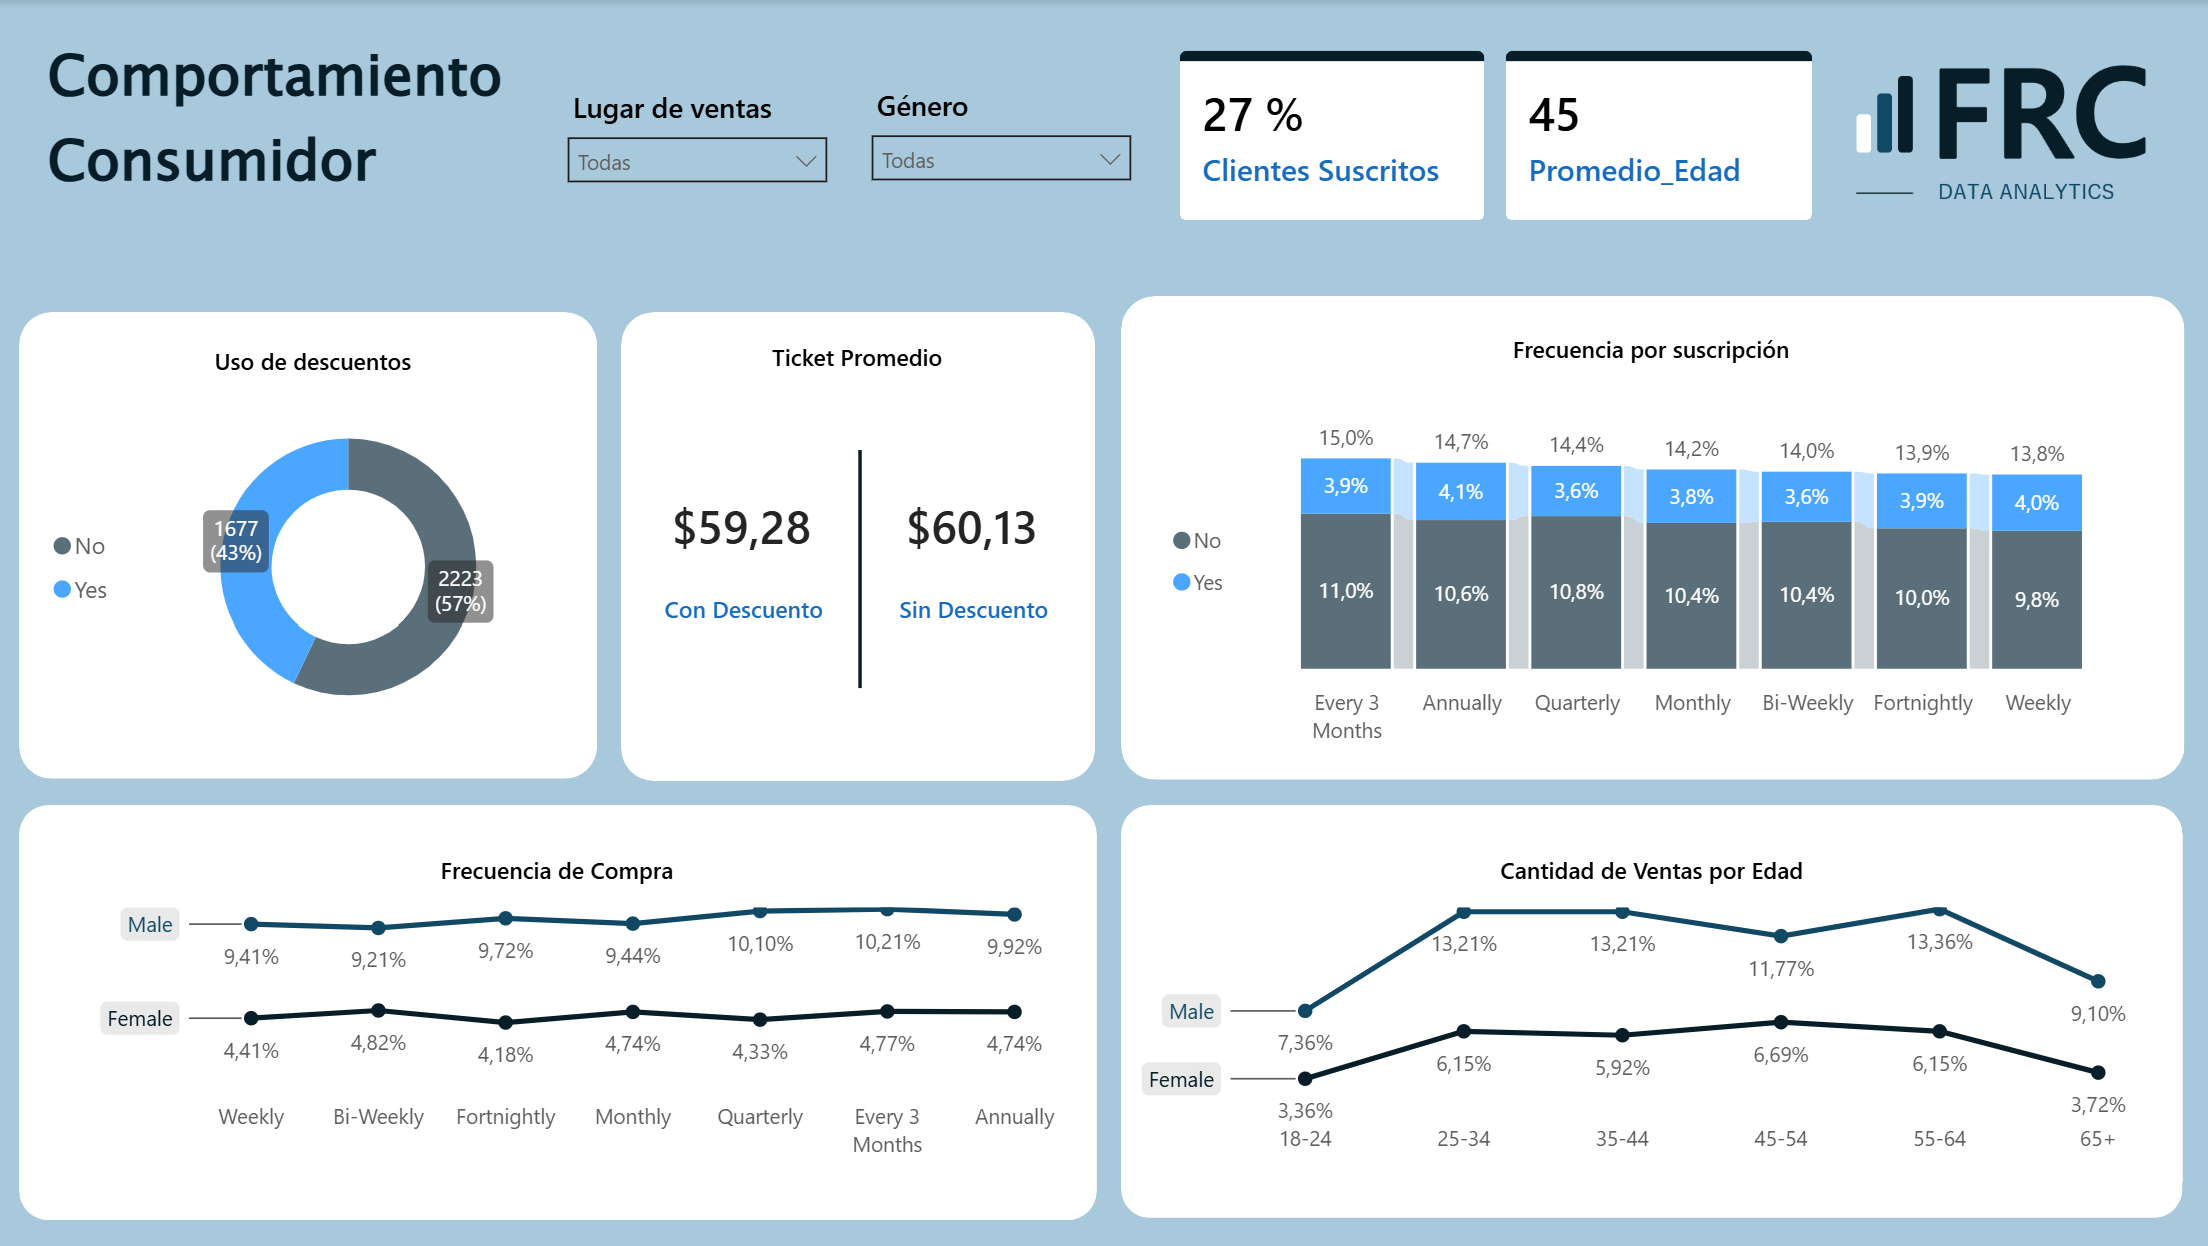

Layout of this report page (visuals, bound fields, positions):
{"tool":"powerbi","page":{"name":"Consumidor","canvas":[1280,720],"ordinal":1},"visuals":[{"type":"shape","box":[360.6,180.3,274,270.4],"z":0},{"type":"shape","box":[13.2,180.3,334.1,269.2],"z":1000},{"type":"shape","box":[650,171.2,614.6,278.9],"z":2000},{"type":"shape","box":[650,464.5,613.4,238.7],"z":3000},{"type":"shape","box":[13,464.5,622.9,239.9],"z":4000},{"type":"textbox","box":[24.2,14.9,280.5,117],"z":5000},{"type":"image","box":[1062.5,0,192.3,149],"z":6000},{"type":"cardVisual","fields":{"Data":["Dax Medidas.Promedio_Edad"]},"box":[859.9,16.8,201.9,122.6],"z":7000},{"type":"lineChart","title":"Frecuencia de Compra","fields":{"Category":["dim_frequency.frequency_name"],"Y":["CountNonNull(fact_transactions.frequency_id)"],"Series":["dim_gender.gender_name"]},"box":[13,481,621.7,202.1],"z":8000},{"type":"lineChart","title":"Cantidad de Ventas por Edad","fields":{"Category":["dim_customer.Rango Edad"],"Y":["CountNonNull(fact_transactions.frequency_id)"],"Series":["dim_gender.gender_name"]},"box":[650,481,613.4,202.1],"z":9000},{"type":"columnChart","title":"Frecuencia por suscripción","fields":{"Y":["CountNonNull(fact_transactions.subscription_status_id)"],"Series":["dim_subscription_status.subscription_status_name"],"Category":["dim_frequency.frequency_name"]},"box":[666.6,180.6,578,263.6],"z":10000},{"type":"cardVisual","fields":{"Data":["Dax Medidas.Porcentaje_sobre_total_ventas"]},"box":[671,16.8,200.7,122.6],"z":11000},{"type":"donutChart","title":"Uso de descuentos","fields":{"Y":["CountNonNull(fact_transactions.discount_status_id)"],"Category":["dim_discount_status.discount_status_name"]},"box":[19.2,187.5,325.7,257.2],"z":12000},{"type":"cardVisual","fields":{"Data":["Dax Medidas.Ticket promedio"]},"box":[365.4,260.8,137,79.3],"z":13000},{"type":"cardVisual","fields":{"Data":["Dax Medidas.Ticket promedio"]},"box":[500,260.8,134.6,79.3],"z":14000},{"type":"textbox","box":[403.8,192,187.5,33.7],"z":15000},{"type":"textbox","box":[494,338,141.8,33.7],"z":16000},{"type":"textbox","box":[360.6,337.7,141.8,33.7],"z":17000},{"type":"slicer","title":"Locación","fields":{"Values":["dim_gender.gender_name"]},"box":[500,49.5,159.8,78.1],"z":18000},{"type":"slicer","title":"Locación","fields":{"Values":["dim_location.location_name"]},"box":[324.5,50.7,159.8,78.1],"z":19000},{"type":"shape","box":[467.5,259.6,61.3,137],"z":20000}]}

Visuals, with their boxes in screenshot pixels (x1, y1, x2, y2), scaled from the page's 1280x720 canvas onto the 2208x1246 screenshot:
shape: x1=622 y1=312 x2=1095 y2=780
shape: x1=23 y1=312 x2=599 y2=778
shape: x1=1121 y1=296 x2=2181 y2=779
shape: x1=1121 y1=804 x2=2179 y2=1217
shape: x1=22 y1=804 x2=1097 y2=1219
textbox: x1=42 y1=26 x2=526 y2=228
image: x1=1833 y1=0 x2=2165 y2=258
cardVisual - Dax Medidas.Promedio_Edad: x1=1483 y1=29 x2=1832 y2=241
"Frecuencia de Compra" lineChart: x1=22 y1=832 x2=1095 y2=1182
"Cantidad de Ventas por Edad" lineChart: x1=1121 y1=832 x2=2179 y2=1182
"Frecuencia por suscripción" columnChart: x1=1150 y1=313 x2=2147 y2=769
cardVisual - Dax Medidas.Porcentaje_sobre_total_ventas: x1=1157 y1=29 x2=1504 y2=241
"Uso de descuentos" donutChart: x1=33 y1=324 x2=595 y2=770
cardVisual - Dax Medidas.Ticket promedio: x1=630 y1=451 x2=867 y2=589
cardVisual - Dax Medidas.Ticket promedio: x1=862 y1=451 x2=1095 y2=589
textbox: x1=697 y1=332 x2=1020 y2=391
textbox: x1=852 y1=585 x2=1097 y2=643
textbox: x1=622 y1=584 x2=867 y2=643
"Locación" slicer: x1=862 y1=86 x2=1138 y2=221
"Locación" slicer: x1=560 y1=88 x2=835 y2=223
shape: x1=806 y1=449 x2=912 y2=686
